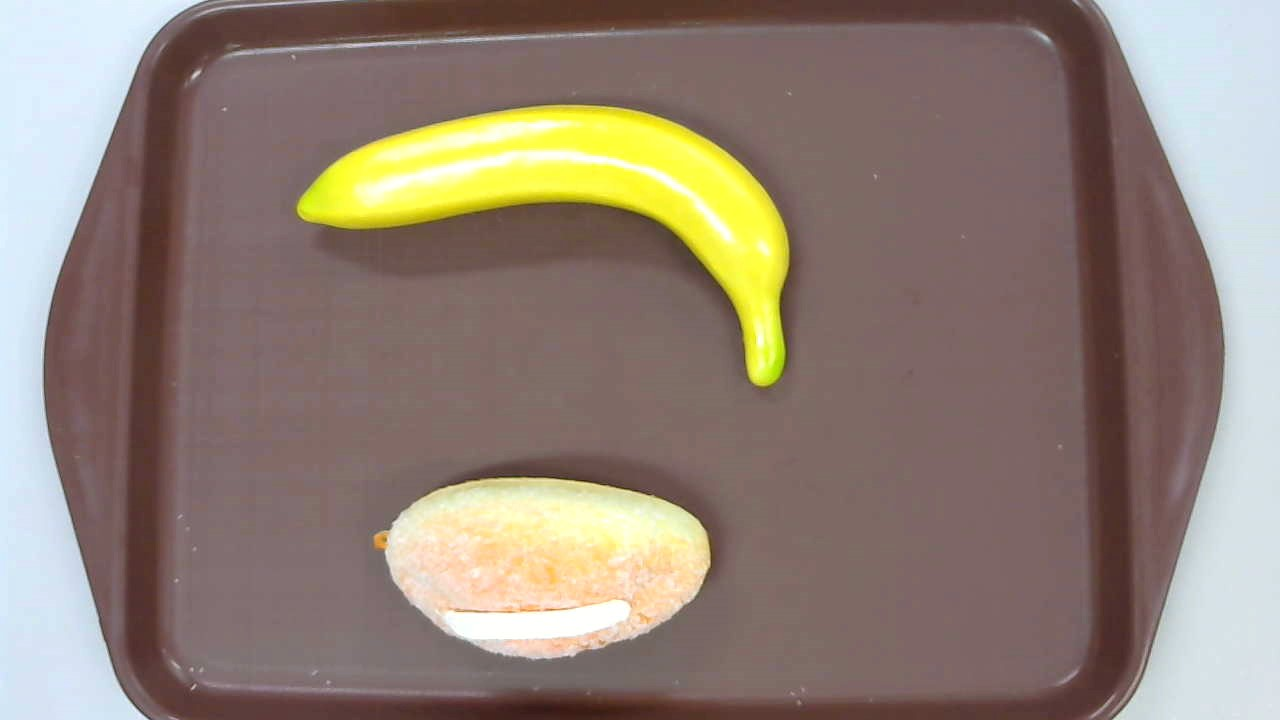banana: (295, 105, 791, 388)
coconut: (374, 475, 713, 661)
